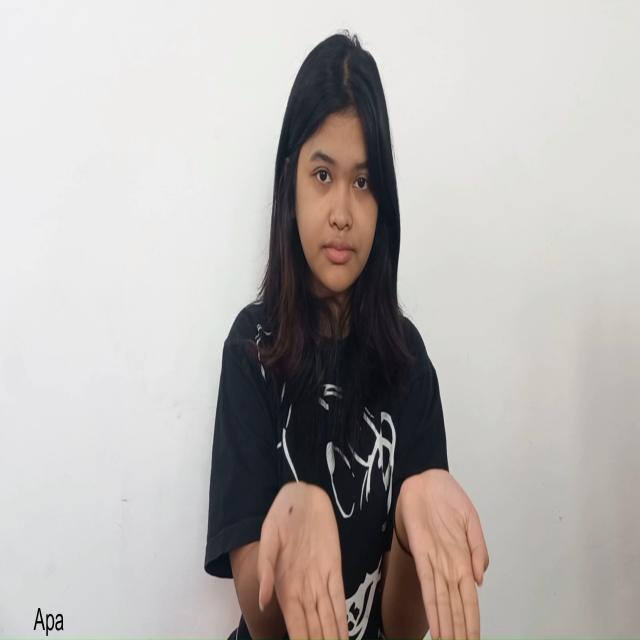Apa -BISINDO-: (256, 463, 492, 640)
